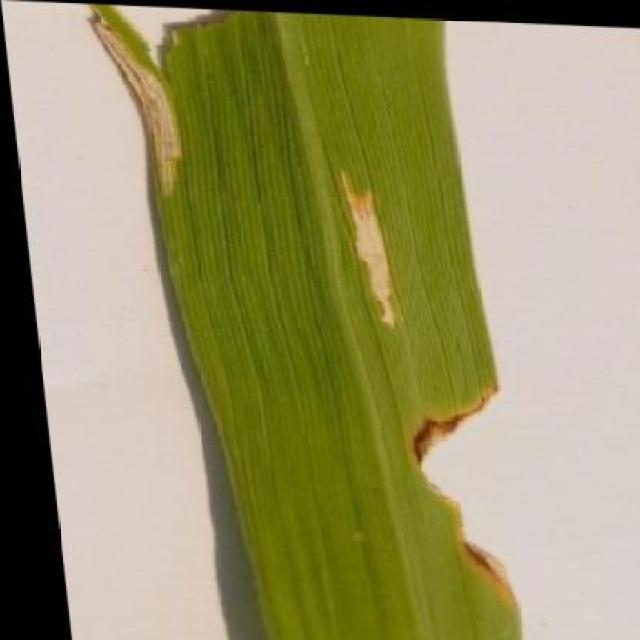Brown_Spot: (57, 1, 530, 640)
